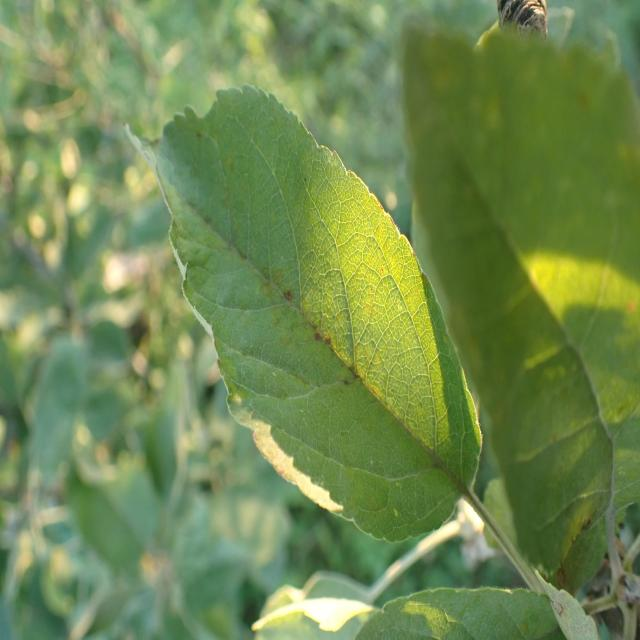scab: (172, 152, 419, 472)
